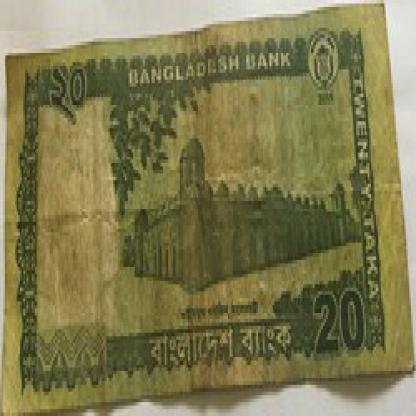Twenty: (50, 62, 101, 139), (313, 284, 366, 357)
